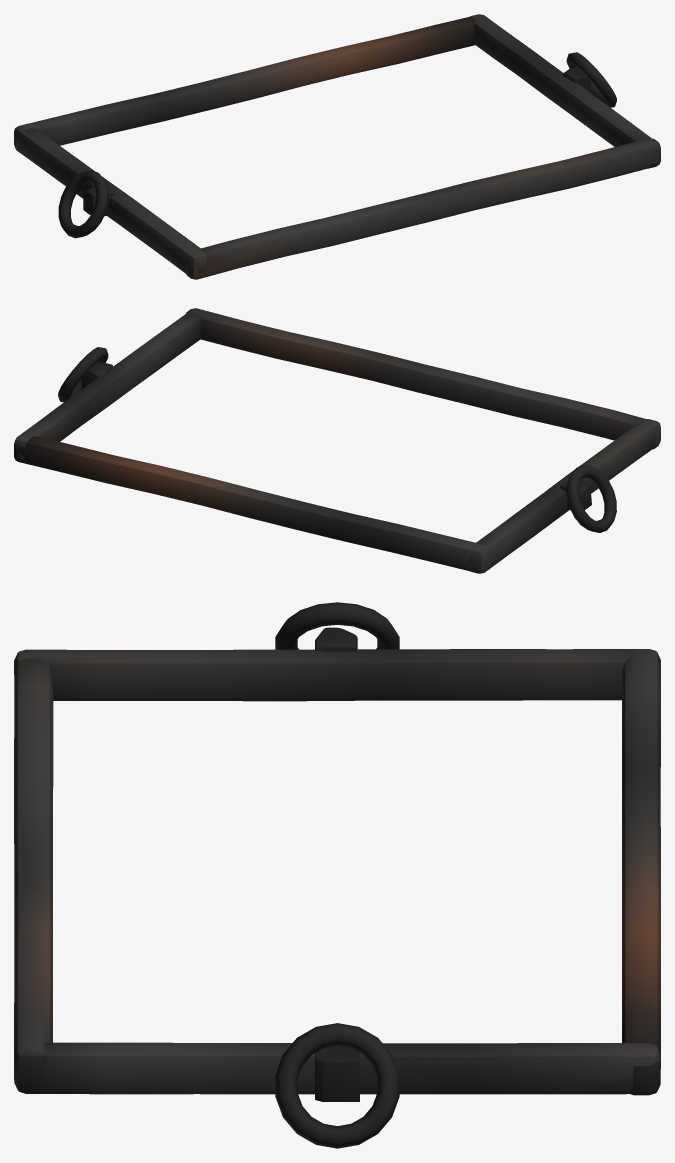
File: ember_ash_pan.glb
3 renders of one model, top to bottom at view 1: azimuth 30°, elevation 25°; view 2: azimuth 150°, elevation 25°; view 3: azimuth 270°, elevation 25°, orthographic. The views are drawn at different scales.
Visible parts, largest first — view 1: ember_ash_pan; view 2: ember_ash_pan; view 3: ember_ash_pan.
Part boxes in pixels (<box>): ember_ash_pan: <box>14,14,660,279</box>; ember_ash_pan: <box>14,308,660,573</box>; ember_ash_pan: <box>14,602,660,1148</box>.
Size of the model in its own units: 34.7 by 3.38 by 20.01.
